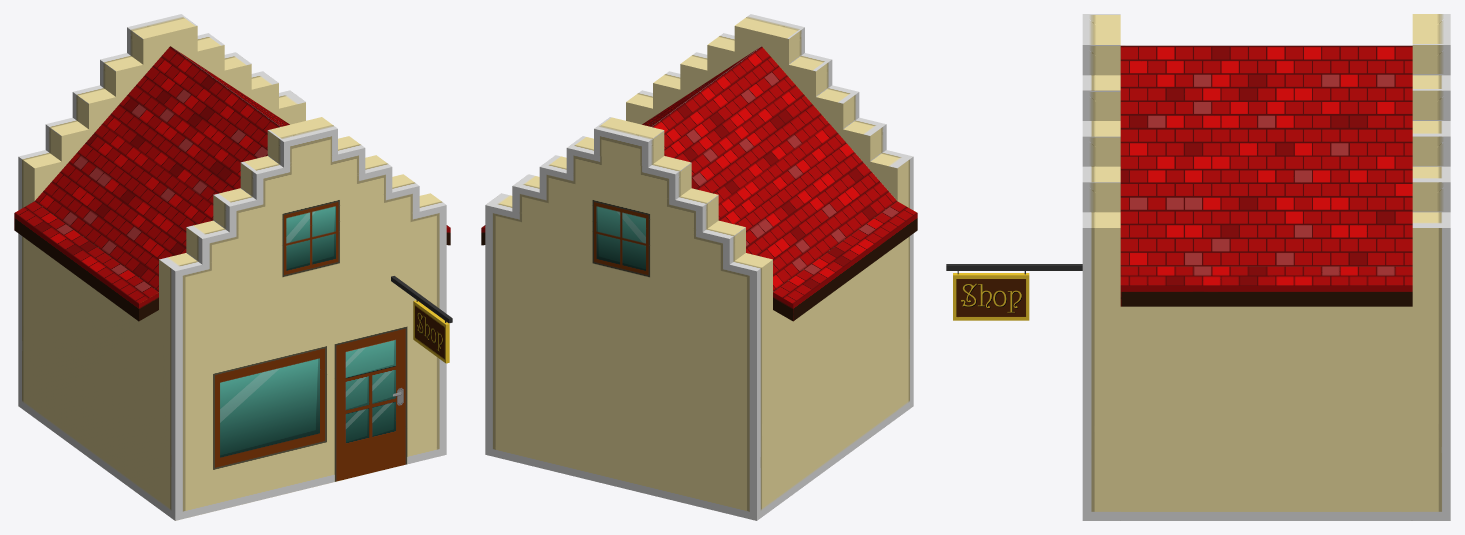
File: shop-kiosk-small.glb
3 views of the same model, side by side, from view 1: azimuth 30°, elevation 25°; view 2: azimuth 150°, elevation 25°; view 3: azimuth 270°, elevation 25° (orthographic). The views are drawn at different scales.
Parts seen in each view (by area): view 1: shop_0; view 2: shop_0; view 3: shop_0.
Part boxes in pixels (x1,y1,x2,y2): shop_0: [14, 14, 452, 520]; shop_0: [481, 14, 917, 520]; shop_0: [946, 14, 1450, 520].
Size of the model in its own units: 2.3 by 2.48 by 2.74.
1 material, 1 textured.
